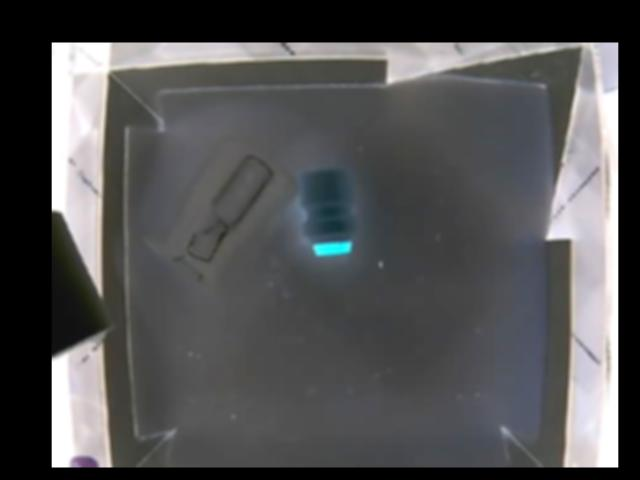Bottle: (141, 143, 282, 280), (298, 169, 357, 255)
